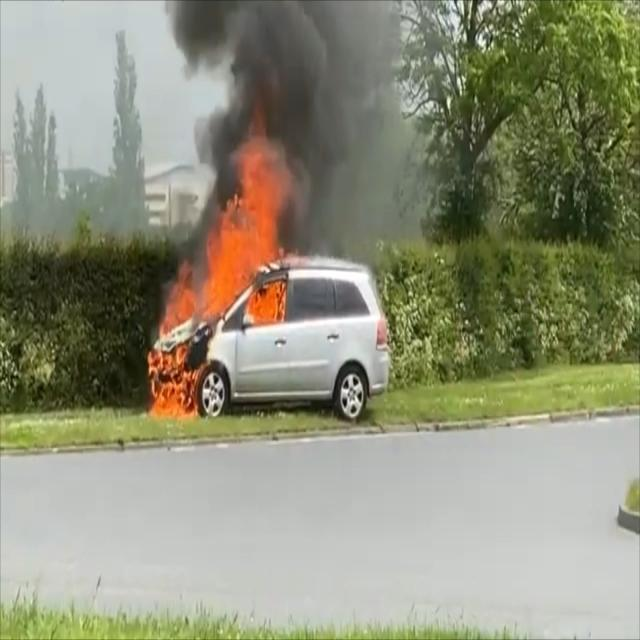fire: (147, 100, 294, 430)
